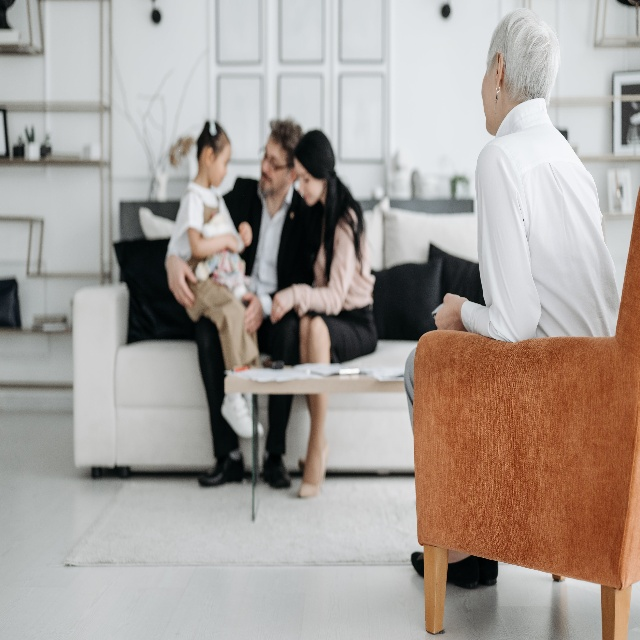Gafas: (259, 145, 279, 172)
Sin_guantes: (166, 256, 197, 309), (436, 292, 465, 335), (269, 285, 295, 323), (241, 292, 263, 335), (238, 221, 254, 248), (226, 231, 240, 254)
